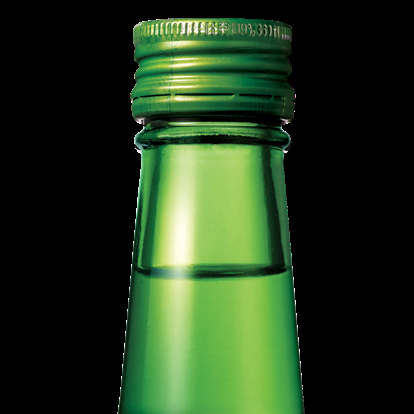soju: (97, 15, 319, 414)
